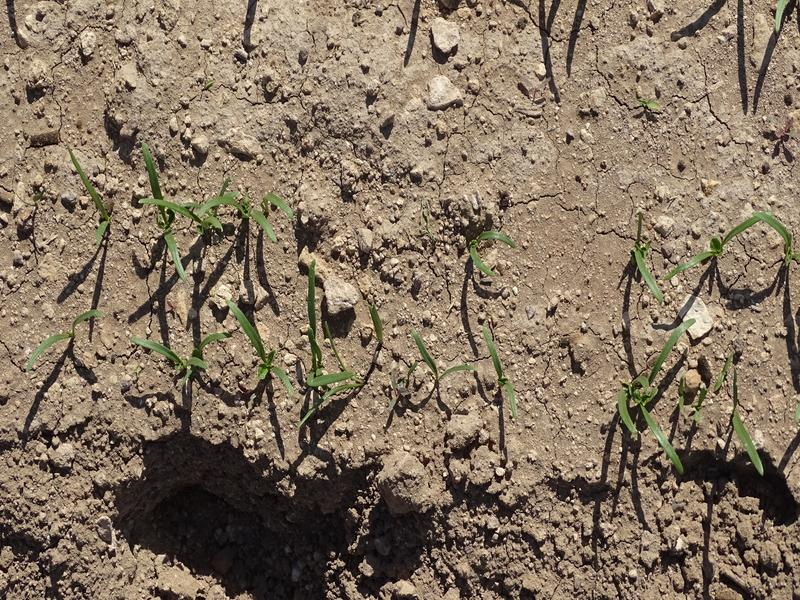Espinaca: (605, 325, 764, 473), (137, 144, 298, 274), (619, 203, 790, 302), (298, 272, 352, 407), (224, 299, 298, 396), (479, 330, 529, 427), (29, 309, 111, 366), (129, 322, 212, 378), (405, 330, 476, 386), (70, 150, 112, 240), (464, 226, 514, 278)
